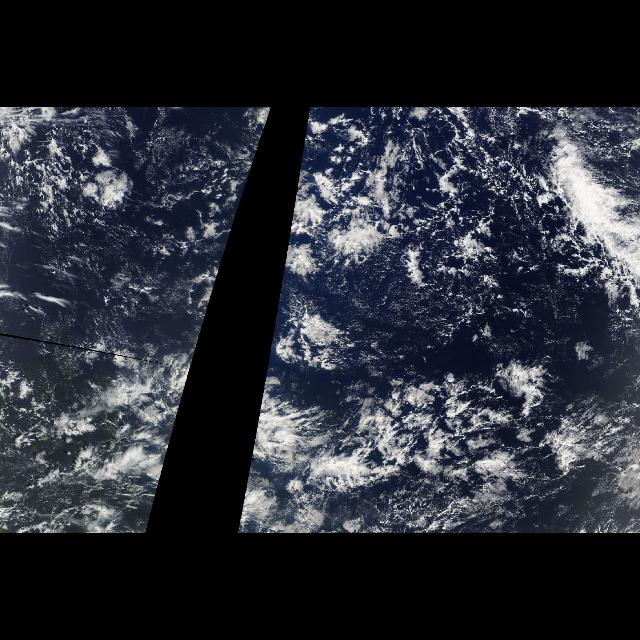Fish: (332, 362, 570, 498), (537, 124, 639, 326)
Gravel: (354, 107, 602, 345), (32, 252, 182, 372), (9, 128, 135, 242)
Sugar: (52, 244, 166, 350), (338, 281, 464, 374)
